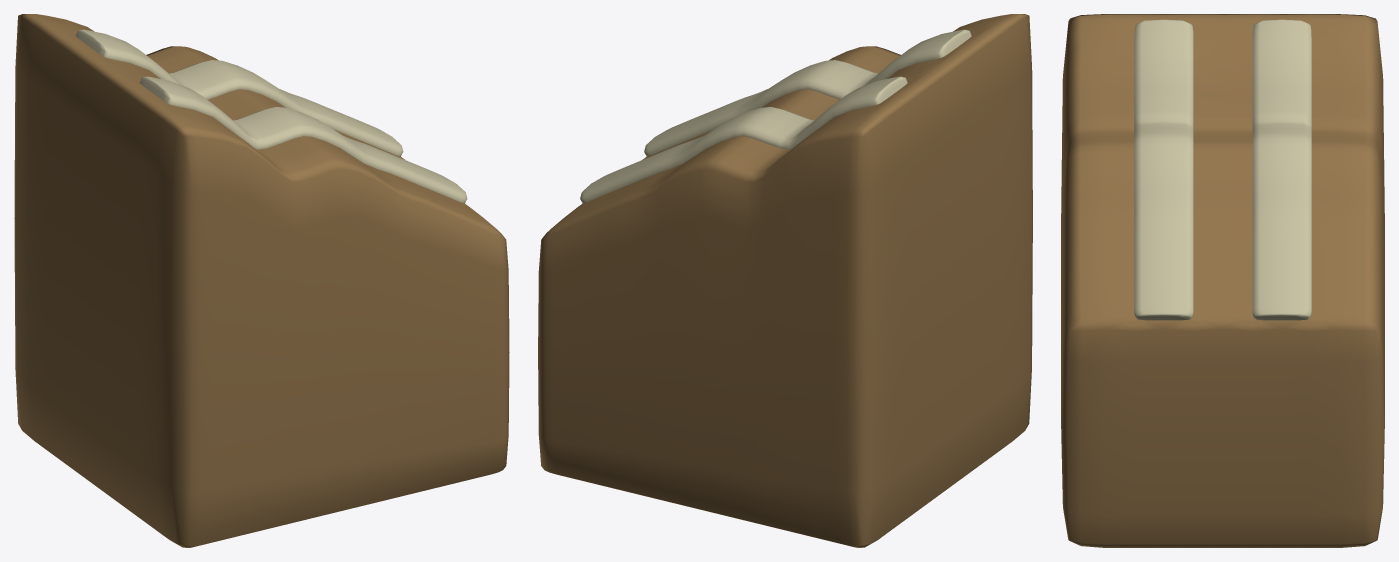
The model's file is 夹心面包(1).fbx.
The picture shows the model from 3 angles, left to right: view 1: azimuth 30°, elevation 25°; view 2: azimuth 150°, elevation 25°; view 3: azimuth 270°, elevation 25°; orthographic projection. The views are drawn at different scales.
Visible parts, largest first — view 1: mianbao; view 2: mianbao; view 3: mianbao.
Part boxes in pixels (bbox=[...]): mianbao: bbox=[14, 14, 509, 547]; mianbao: bbox=[538, 14, 1032, 547]; mianbao: bbox=[1061, 14, 1384, 547].
Bounding box in the file's own units: 7 × 8.49 × 6.26.
